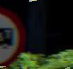Heavy Vehicles: (1, 4, 26, 67)
